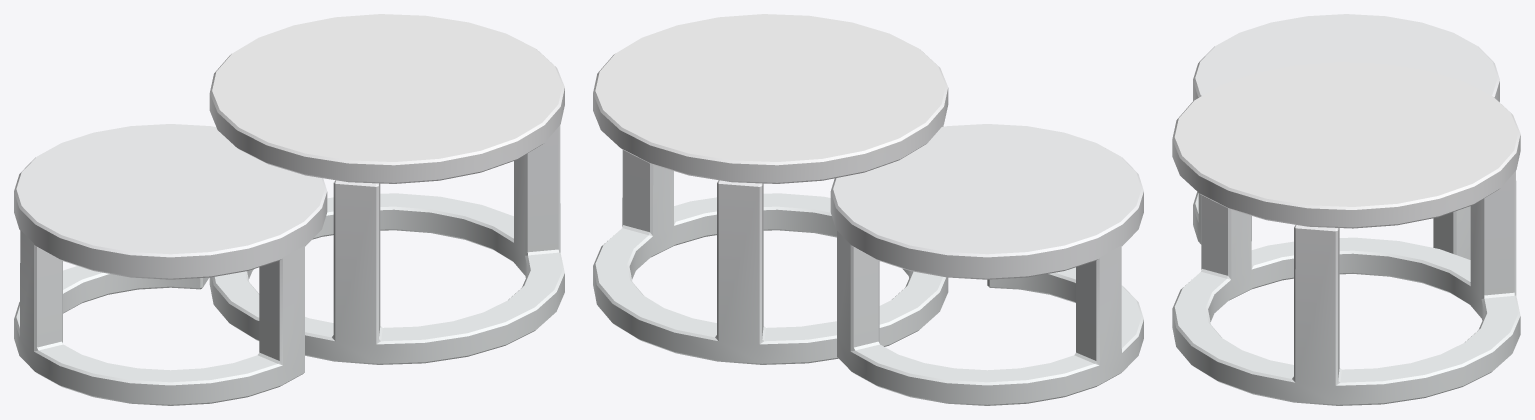
File: Coffee_Table.fbx
3 renders of one model, left to right at view 1: azimuth 30°, elevation 25°; view 2: azimuth 150°, elevation 25°; view 3: azimuth 270°, elevation 25°, orthographic.
Visible parts, largest first — view 1: Coffee_Table; view 2: Coffee_Table; view 3: Coffee_Table.
Boxes of the visible parts, left/top/right/bottom form: Coffee_Table: left=14, top=14, right=564, bottom=405; Coffee_Table: left=593, top=14, right=1143, bottom=405; Coffee_Table: left=1172, top=14, right=1520, bottom=405.
Bounding box in the file's own units: 13.04 × 4.99 × 7.93.
Materials: 1 (1 with a texture image).
